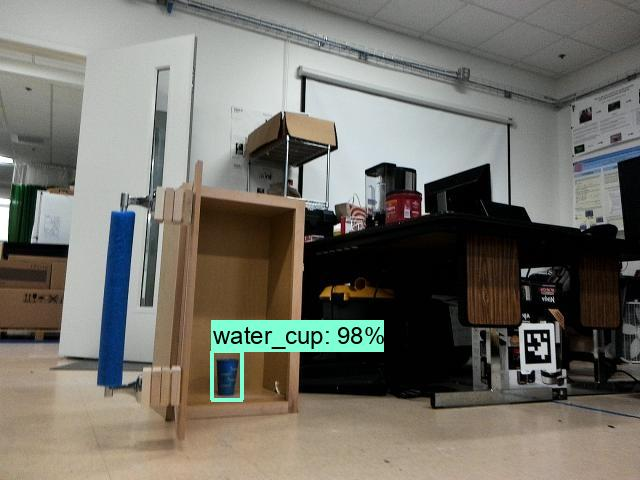noodle_handle: (101, 204, 135, 390)
water_cup: (213, 353, 240, 400)
